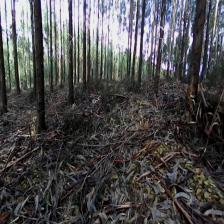trunk: (187, 7, 206, 95), (152, 10, 166, 95), (34, 13, 44, 132), (130, 14, 139, 80), (12, 22, 20, 91), (137, 20, 144, 88), (68, 26, 73, 106), (82, 28, 86, 86), (87, 35, 91, 84), (50, 27, 52, 94)
